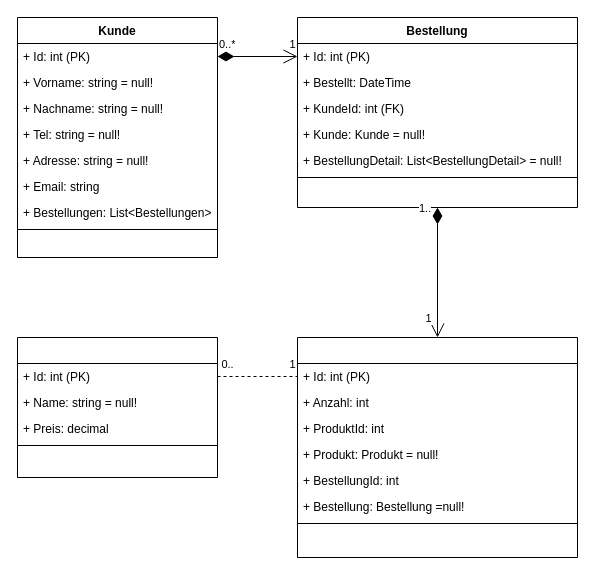
Some shapes in this 595 by 575 pixel diagram are drawn without their labels. Here are the shapes that lost their labels. From the top down, the box of each, then its label:
(16, 336, 218, 478): Produkt
(296, 336, 578, 558): BestellungDetail
